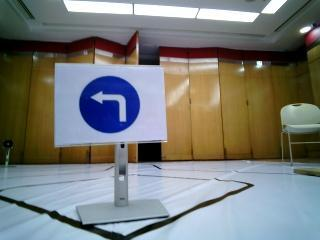left: (55, 65, 166, 141)
